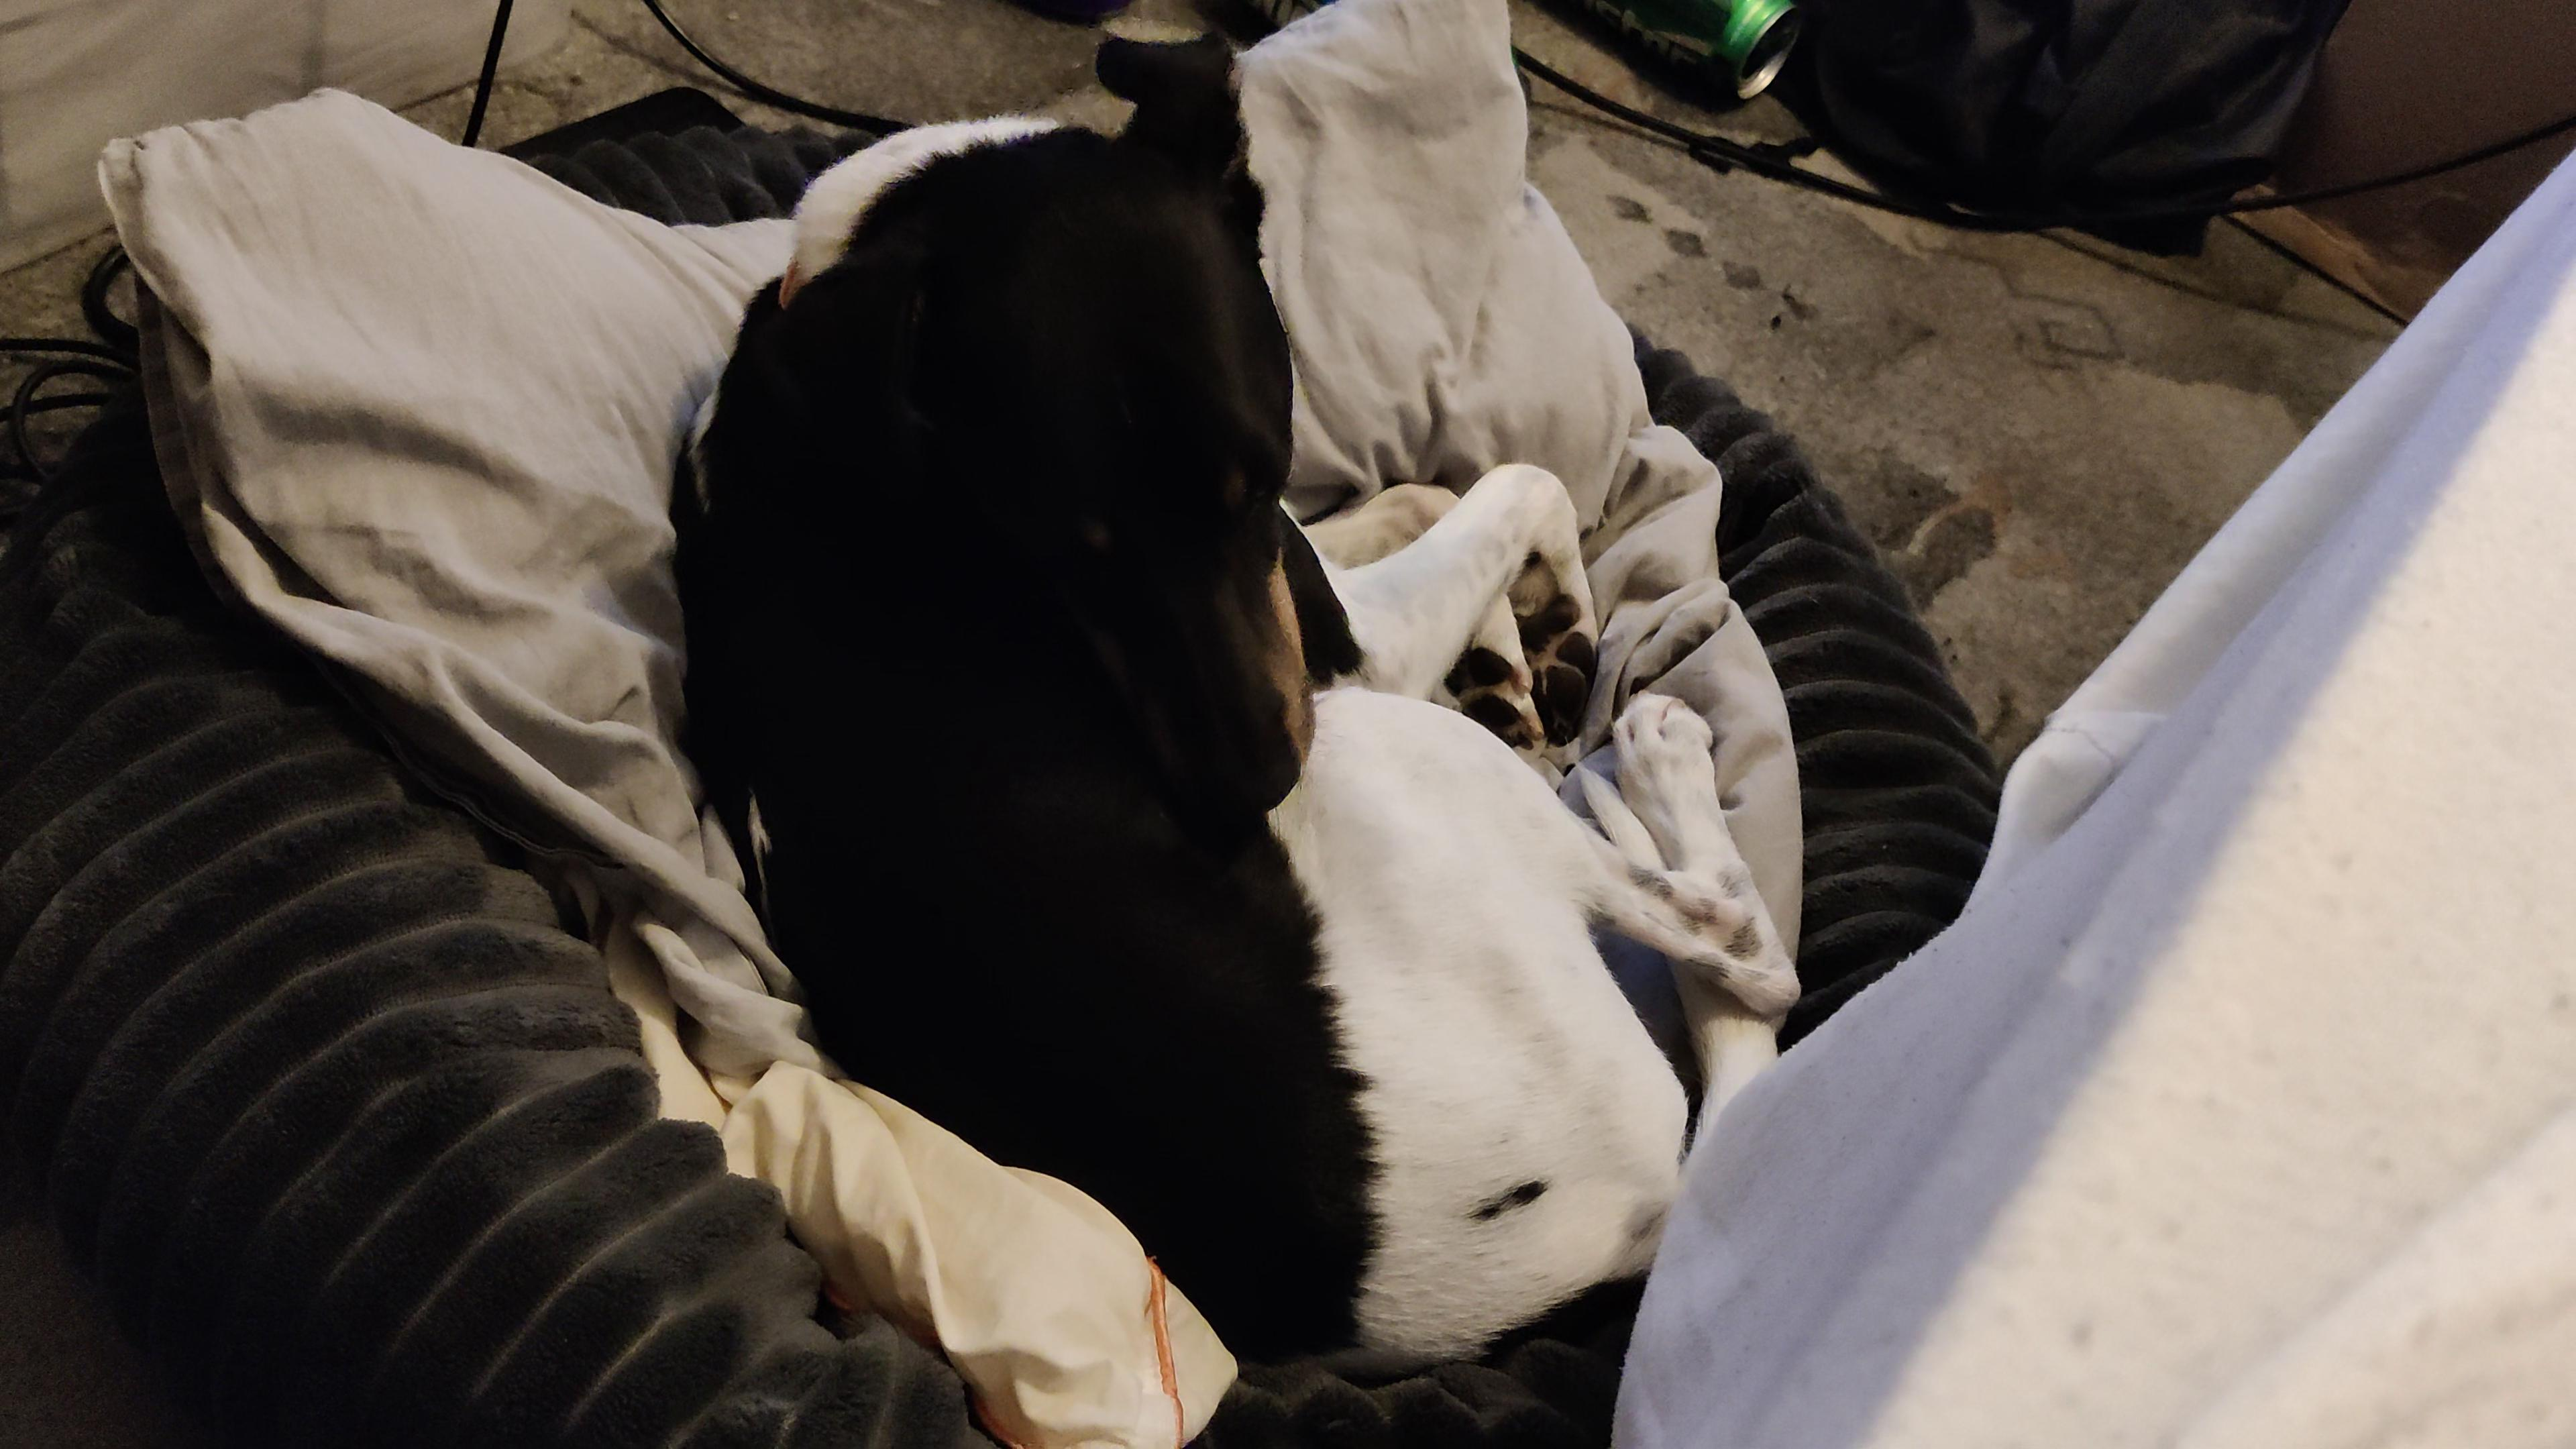Dog: (658, 27, 1826, 1391)
